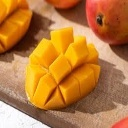mango: (25, 27, 100, 109)
